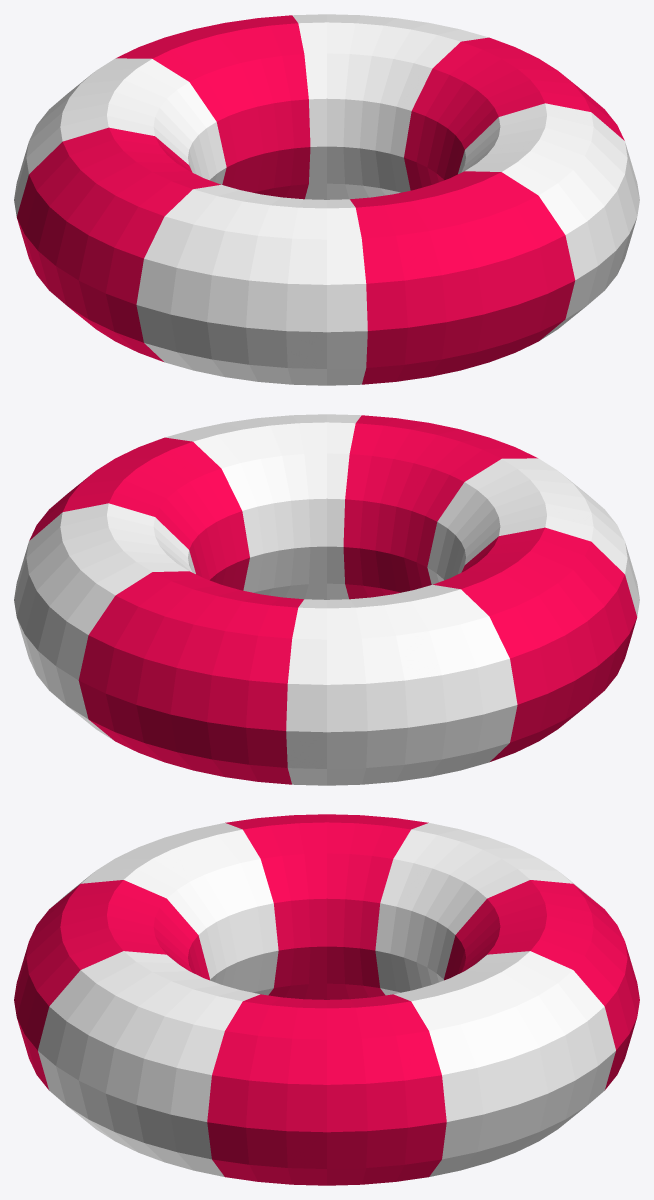
The model's file is InflatableTube.fbx.
The picture shows the model from 3 angles, top to bottom: view 1: azimuth 30°, elevation 25°; view 2: azimuth 150°, elevation 25°; view 3: azimuth 270°, elevation 25°; orthographic projection.
Visible parts, largest first — view 1: InflatableTube; view 2: InflatableTube; view 3: InflatableTube.
Part boxes in pixels (x1=…): InflatableTube: x1=14, y1=14, x2=639, y2=385; InflatableTube: x1=14, y1=414, x2=639, y2=785; InflatableTube: x1=14, y1=814, x2=639, y2=1185.
Size of the model in its own units: 285 by 84.9 by 285.
